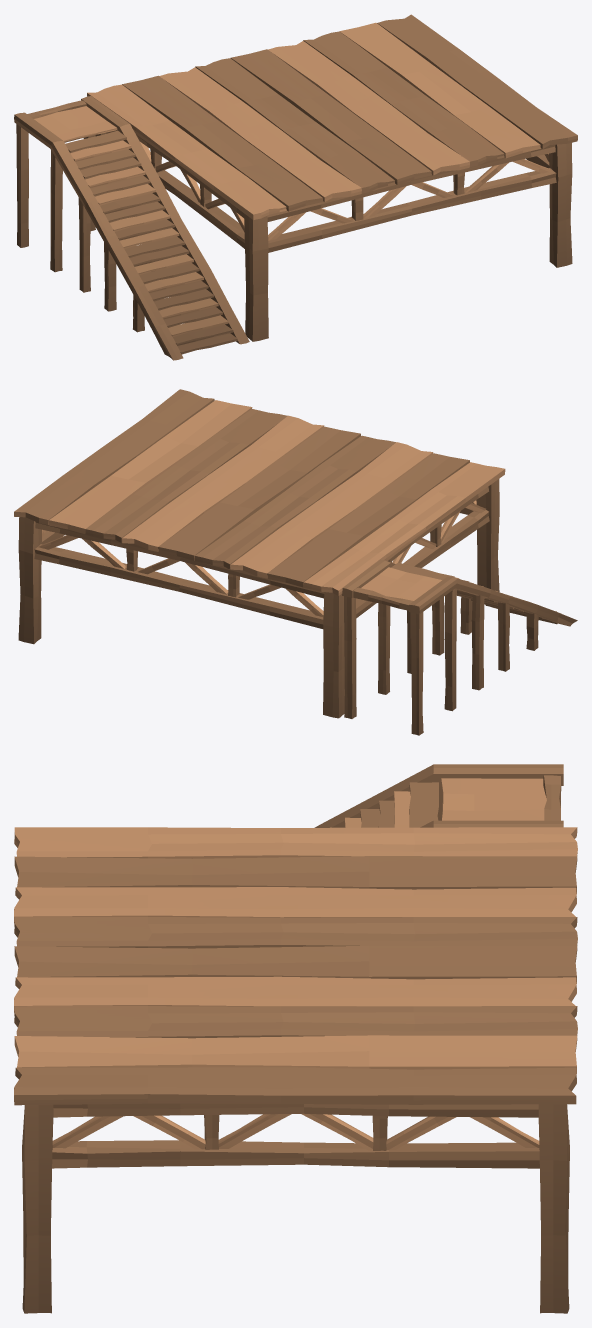
Rendered from wooden-platform.glb.
3 views of the same model, one above another, from view 1: azimuth 30°, elevation 25°; view 2: azimuth 150°, elevation 25°; view 3: azimuth 270°, elevation 25° (orthographic). The views are drawn at different scales.
Visible parts, largest first — view 1: wooden platform; view 2: wooden platform; view 3: wooden platform.
Part boxes in pixels (x1,y1,x2,y2): wooden platform: [14, 14, 577, 360]; wooden platform: [14, 389, 577, 735]; wooden platform: [14, 764, 577, 1313].
Bounding box in the file's own units: 17.14 × 5.34 × 12.32.
1 material, 1 textured.
